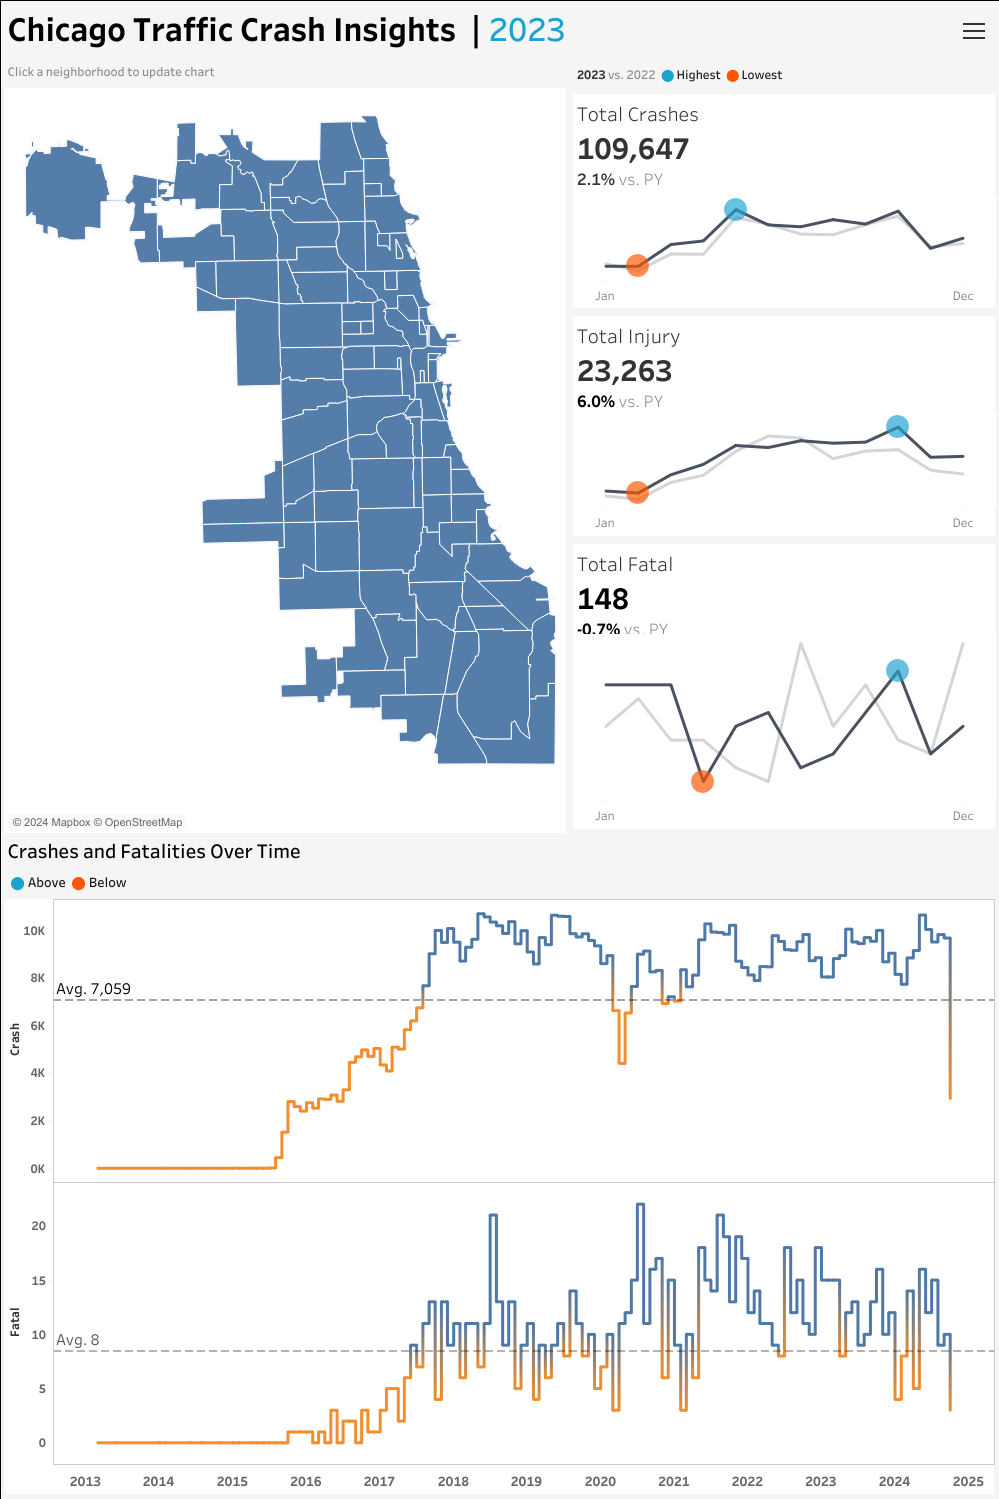

The page's visual inventory and layout, read from the dashboard file:
{"tool":"tableau","page":{"name":"Traffic Crash Insights Dashboard","canvas":[1000,1500],"ordinal":0},"visuals":[{"type":"text","box":[1,1,998,53]},{"type":"dashboard-object","box":[962,18,24,26]},{"type":"text","box":[1,58,568,25]},{"type":"worksheet","title":"Legend","mark":"Automatic","box":[569,58,430,32]},{"type":"worksheet","title":"Map","mark":"Multipolygon","box":[1,83,568,749]},{"type":"worksheet","title":"KPI Crash Dynamic","mark":"Automatic","box":[569,90,430,105]},{"type":"text","box":[829,97,165,29]},{"type":"parameter","param":"[Parameters].[Parameter 1]","box":[829,126,165,52]},{"type":"parameter","param":"[Parameters].[Parameter 4]","box":[829,178,165,52]},{"type":"worksheet","title":"KPI Crash","mark":"Automatic","rows":["Calculation_3917990942326693903"],"cols":["crash_datetime"],"box":[569,195,430,117]},{"type":"filter","title":"KPI Crash Dynamic","param":"[federated.14y6cxz0pbabfy19iy9z70elmyz3].[Action (Neighborhood)]","box":[829,230,165,59]},{"type":"worksheet","title":"KPI Injuries Dynamic","mark":"Automatic","box":[569,312,430,100]},{"type":"worksheet","title":"KPI Injuries","mark":"Automatic","rows":["Min/Max Crashes (copy)_3917990942340300822"],"cols":["crash_datetime"],"box":[569,412,430,128]},{"type":"worksheet","title":"KPI Fatal Dynamic","mark":"Automatic","box":[569,540,430,94]},{"type":"worksheet","title":"KPI Fatal","mark":"Automatic","rows":["Min/Max Injuries (copy)_3917990942341640215"],"cols":["crash_datetime"],"box":[569,634,430,199]},{"type":"worksheet","title":"Heat Map","mark":"Shape","rows":["HexbinCrash (copy)_3917990942953340968"],"cols":["Calculation_3917990942953164839"],"box":[1,832,568,1]},{"type":"text","box":[1,833,998,34]},{"type":"text","box":[1,867,998,26]},{"type":"worksheet","title":"Yearly Trends","mark":"Automatic","rows":["Calculation_3917990942660554784","total_fatal_injuries_number"],"cols":["crash_datetime"],"box":[1,893,998,606]}]}

Visuals, with their boxes in screenshot pixels (x1, y1, x2, y2), scaled from the page's 1000x1500 canvas onto the 999x1499 screenshot:
text: 1/1/998/54
dashboard-object: 961/18/985/44
text: 1/58/568/83
"Legend" worksheet: 568/58/998/90
"Map" worksheet (Multipolygon marks): 1/83/568/831
"KPI Crash Dynamic" worksheet: 568/90/998/195
text: 828/97/993/126
parameter: 828/126/993/178
parameter: 828/178/993/230
"KPI Crash" worksheet: 568/195/998/312
"KPI Crash Dynamic" filter: 828/230/993/289
"KPI Injuries Dynamic" worksheet: 568/312/998/412
"KPI Injuries" worksheet: 568/412/998/540
"KPI Fatal Dynamic" worksheet: 568/540/998/634
"KPI Fatal" worksheet: 568/634/998/832
"Heat Map" worksheet (Shape marks): 1/831/568/832
text: 1/832/998/866
text: 1/866/998/892
"Yearly Trends" worksheet: 1/892/998/1498
